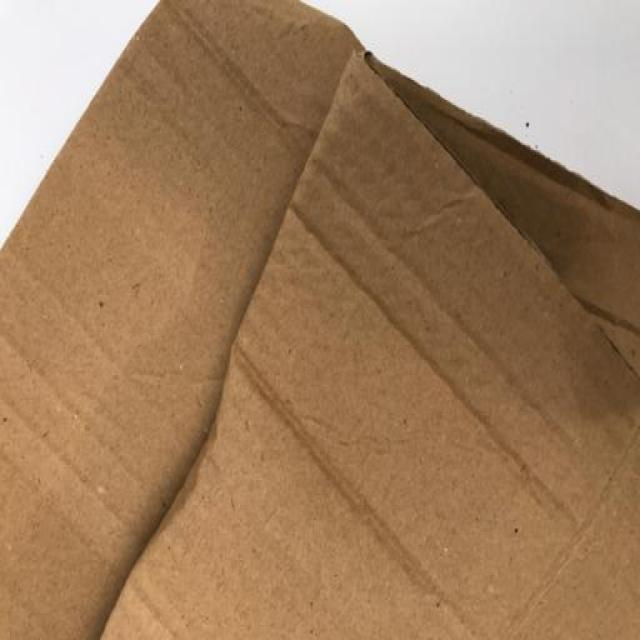Cardboard: (0, 2, 639, 640)
